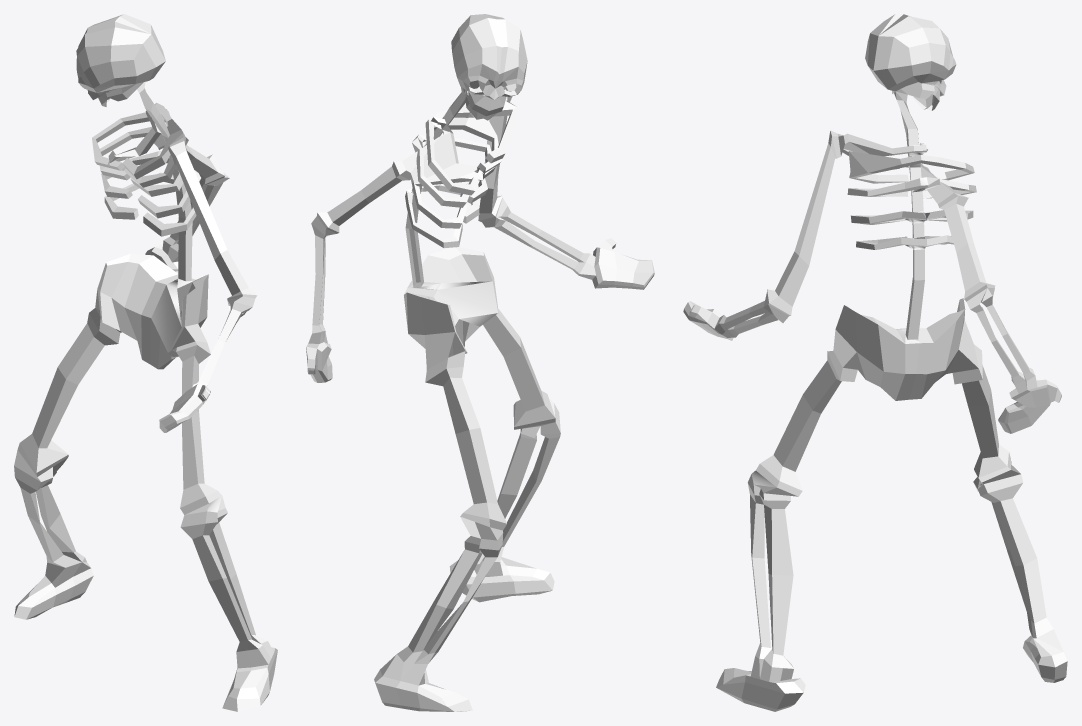
The model's file is SkeletonIdle(82).obj.
The picture shows the model from 3 angles, left to right: view 1: azimuth 30°, elevation 25°; view 2: azimuth 150°, elevation 25°; view 3: azimuth 270°, elevation 25°; orthographic projection. The views are drawn at different scales.
Visible parts, largest first — view 1: Object002; view 2: Object002; view 3: Object002.
Boxes of the visible parts, x1,y1,x2,y2 form: Object002: (14,14,277,711); Object002: (306,14,654,711); Object002: (683,14,1067,711).
Bounding box in the file's own units: 379 × 1135 × 605.
